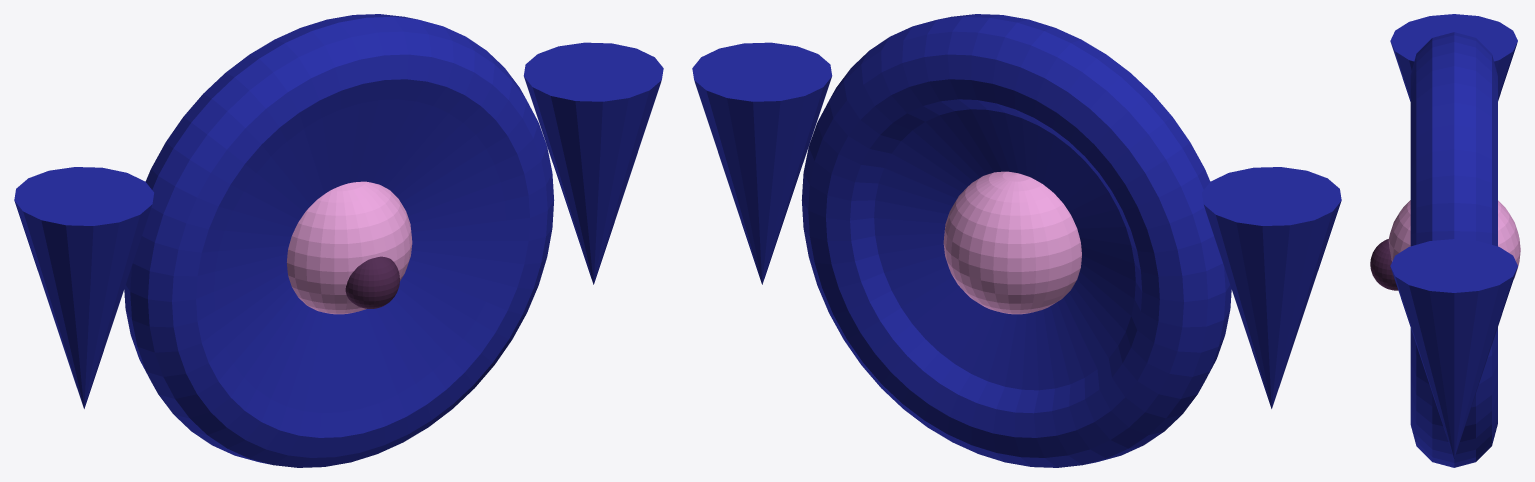
File: enemy.glb
3 renders of one model, left to right at view 1: azimuth 30°, elevation 25°; view 2: azimuth 150°, elevation 25°; view 3: azimuth 270°, elevation 25°, orthographic. The views are drawn at different scales.
Visible parts, largest first — view 1: Wing.001; view 2: Wing.001; view 3: Wing.001.
Part boxes in pixels (bbox=[...]): Wing.001: bbox=[14, 14, 663, 467]; Wing.001: bbox=[692, 14, 1341, 467]; Wing.001: bbox=[1370, 14, 1520, 467].
Size of the model in its own units: 1.24 by 0.8195 by 0.2827.
